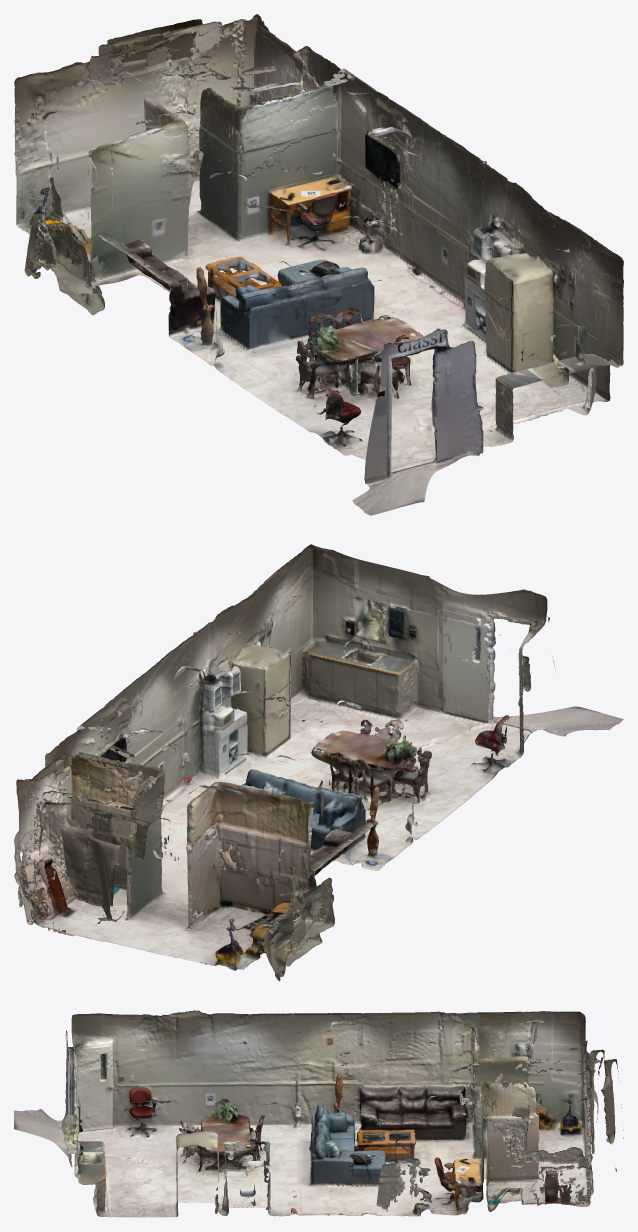
3 renders of one model, top to bottom at view 1: azimuth 30°, elevation 25°; view 2: azimuth 150°, elevation 25°; view 3: azimuth 270°, elevation 25°, orthographic. The views are drawn at different scales.
Size of the model in its own units: 5.7 by 3.46 by 13.65.
Materials: 1 (1 with a texture image).
